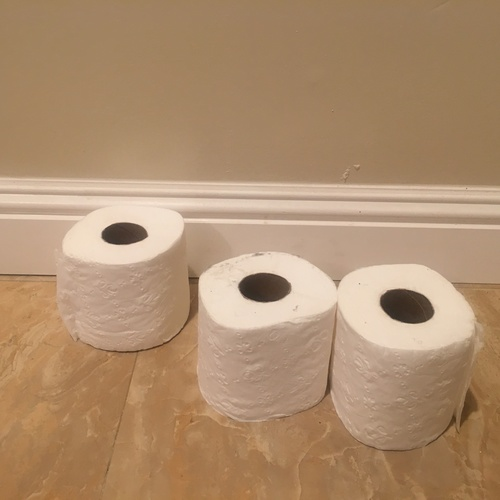roll: (329, 263, 478, 452), (193, 249, 338, 423), (55, 202, 192, 354)
